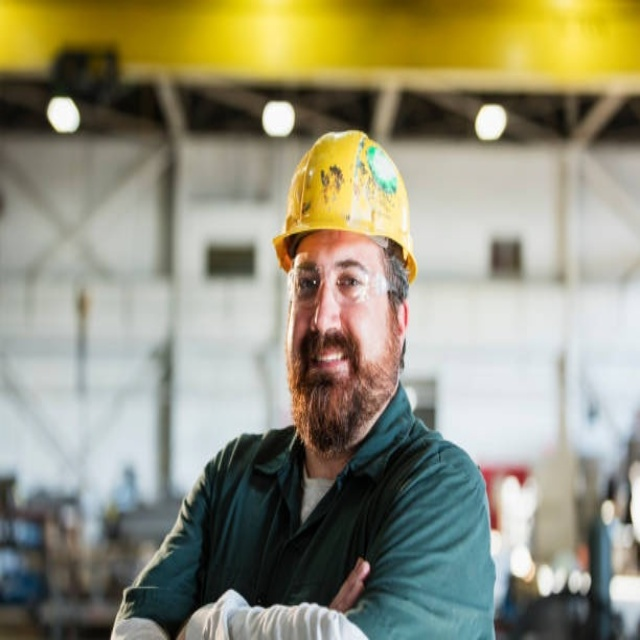Gafas: (283, 259, 403, 304)
Sin_mascara: (295, 334, 355, 402)
